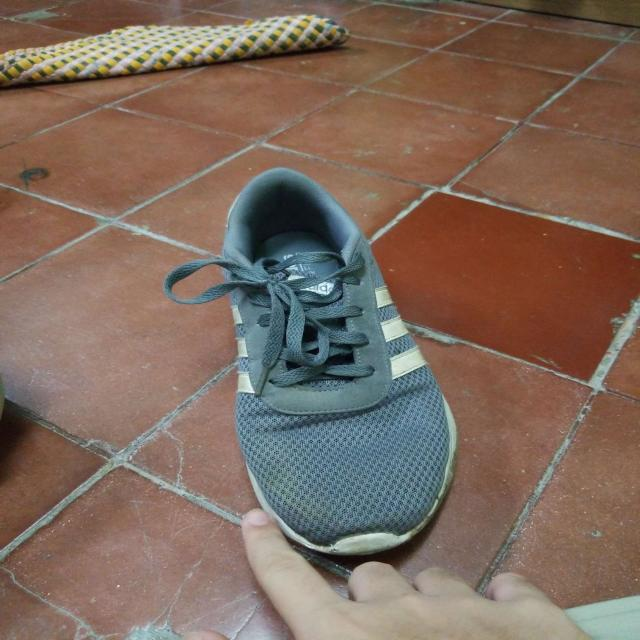shoes: (220, 166, 459, 558)
